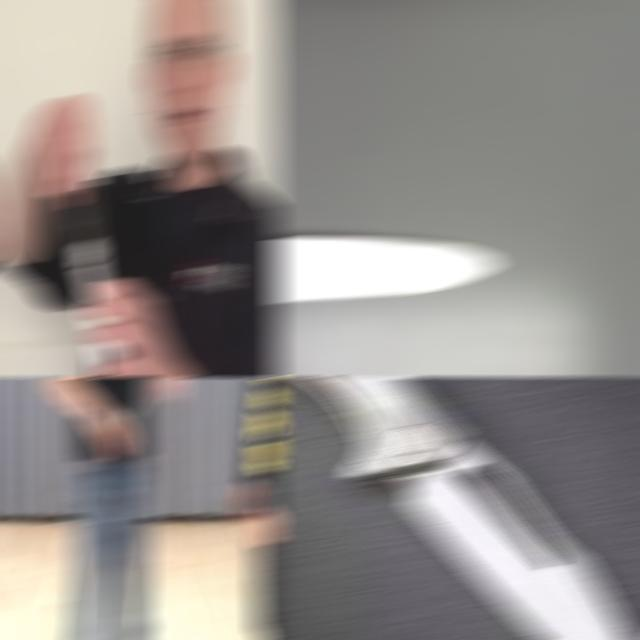Knife: (295, 378, 633, 640), (270, 237, 498, 301)
Knife_Handle: (30, 93, 174, 376), (31, 94, 135, 376), (83, 397, 147, 460)
